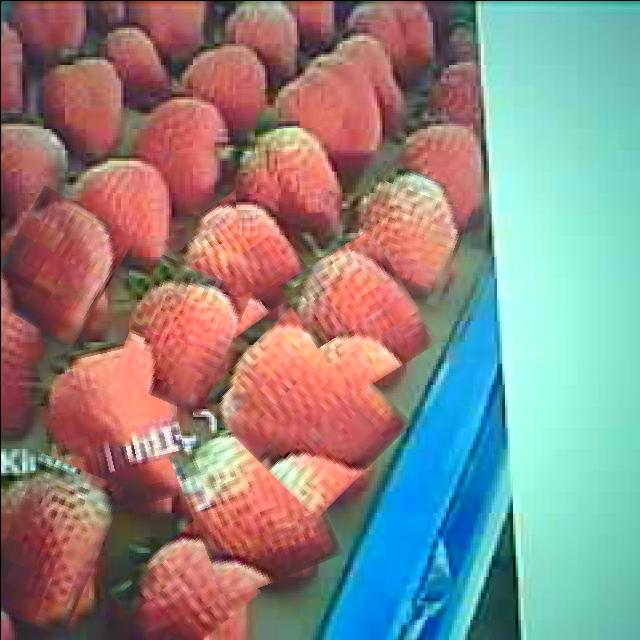strawberry: (216, 315, 392, 506), (180, 418, 332, 592), (44, 338, 185, 514), (290, 237, 424, 388), (0, 458, 110, 631), (120, 261, 240, 409), (176, 190, 303, 328), (0, 193, 121, 337), (351, 166, 469, 300), (115, 528, 251, 640), (234, 125, 332, 235)
